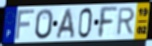0: (77, 6, 94, 39)
A: (54, 7, 76, 40)
F: (14, 8, 37, 42), (98, 5, 119, 39)
O: (35, 8, 54, 40)
R: (115, 7, 136, 38)
